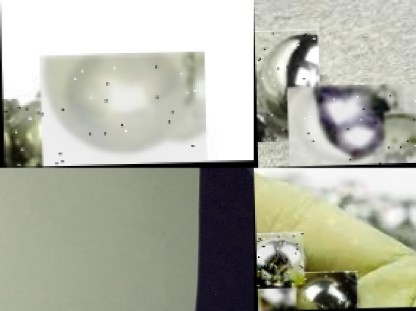ironball: (39, 52, 206, 167), (286, 84, 415, 167), (254, 29, 320, 142), (2, 98, 51, 168), (290, 271, 357, 311), (255, 232, 303, 286), (256, 288, 295, 311)
